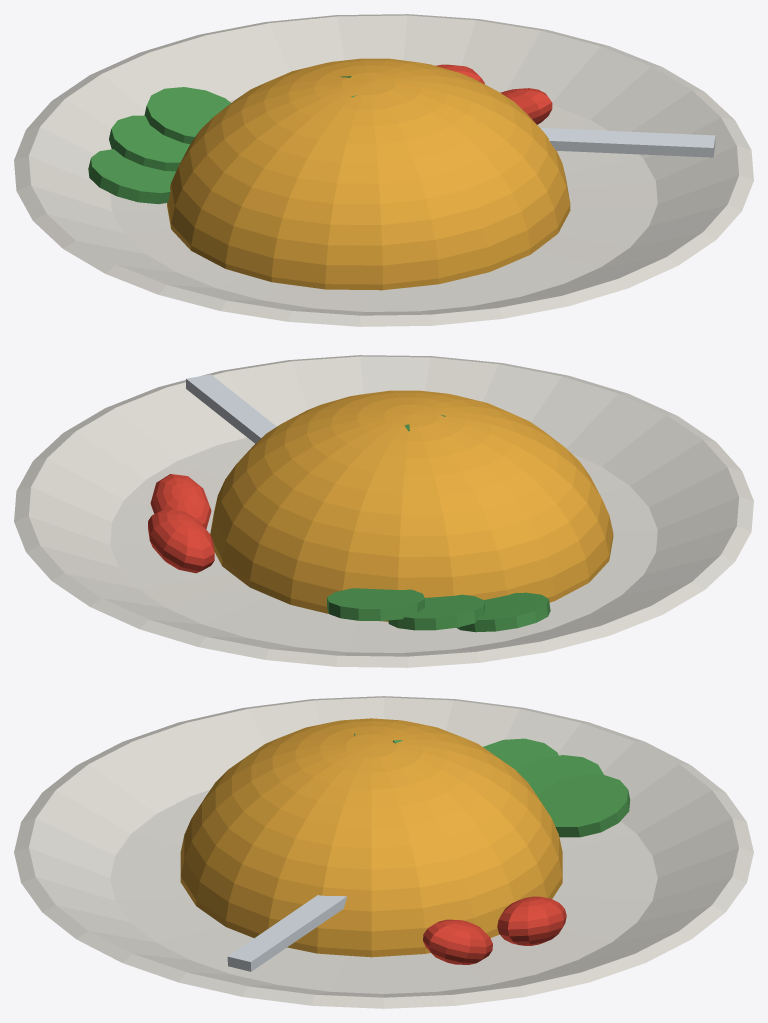
File: fried-rice.glb
3 renders of one model, top to bottom at view 1: azimuth 30°, elevation 25°; view 2: azimuth 150°, elevation 25°; view 3: azimuth 270°, elevation 25°, orthographic.
Parts seen in each view (by area): view 1: VesselMesh, RiceFullMound, RiceFullGreens, FriedRiceSpoon, RicePartialGreens, RiceFullTomato; view 2: VesselMesh, RiceFullMound, RiceFullGreens, RiceFullTomato, FriedRiceSpoon, RicePartialTomato, RicePartialGreens; view 3: VesselMesh, RiceFullMound, RiceFullGreens, RiceFullTomato, FriedRiceSpoon, RicePartialTomato.
Part boxes in pixels (x1,y1,x2,y2): VesselMesh: [14, 14, 753, 326]; RiceFullMound: [167, 58, 570, 290]; RiceFullGreens: [89, 76, 356, 204]; FriedRiceSpoon: [540, 128, 715, 157]; RicePartialGreens: [88, 137, 189, 202]; RiceFullTomato: [441, 65, 552, 124]; VesselMesh: [14, 355, 753, 667]; RiceFullMound: [210, 390, 613, 621]; RiceFullGreens: [327, 414, 550, 632]; RiceFullTomato: [148, 474, 214, 573]; FriedRiceSpoon: [186, 374, 276, 443]; RicePartialTomato: [148, 509, 214, 572]; RicePartialGreens: [405, 593, 549, 631]; VesselMesh: [14, 696, 753, 1008]; RiceFullMound: [180, 718, 562, 957]; RiceFullGreens: [354, 734, 630, 837]; RiceFullTomato: [423, 896, 566, 964]; FriedRiceSpoon: [227, 895, 347, 971]; RicePartialTomato: [498, 896, 566, 945].
Bounding box in the file's own units: 0.24 × 0.0552 × 0.24.
